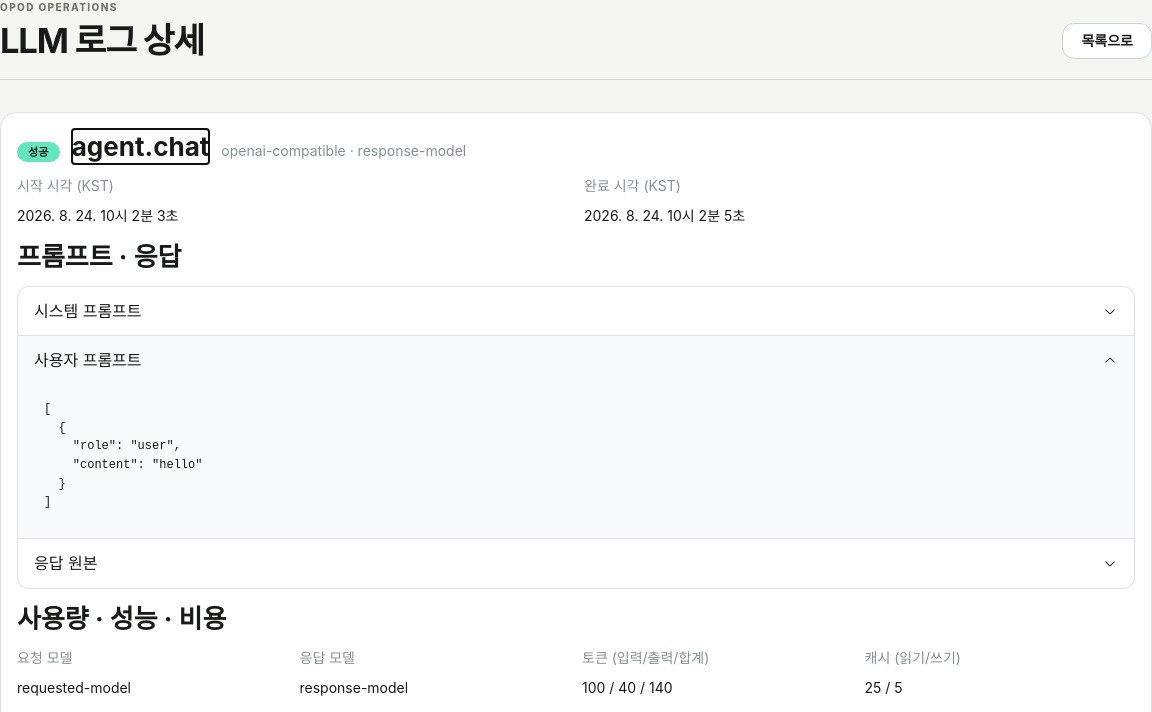
Test case: LLM log observability › loads a direct detail URL without relying on the list and preserves filters on return
Expected: the text "요청 모델" is shown, [17, 649, 72, 666]
Click the link "목록으로": (1107, 41) [1062, 23, 1151, 59]
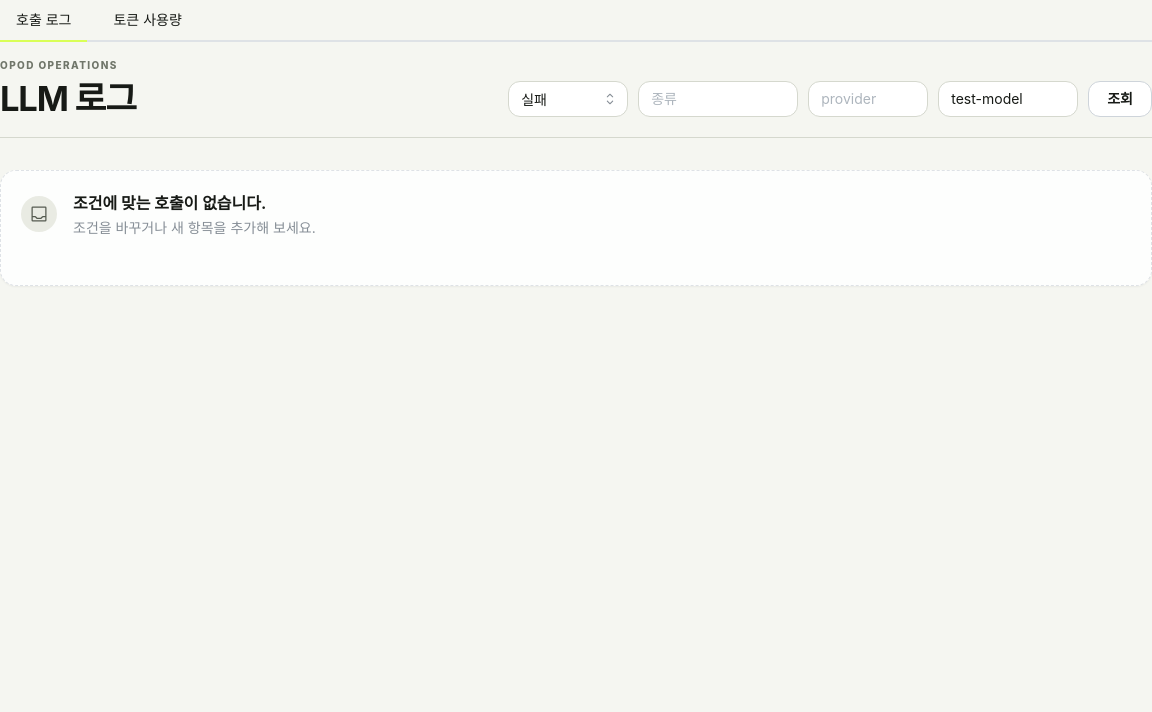
Now the text "조건에 맞는 호출이 없습니다." is shown, box [73, 193, 266, 213]
Now the field named "model" holds "test-model", box [938, 81, 1078, 117]
